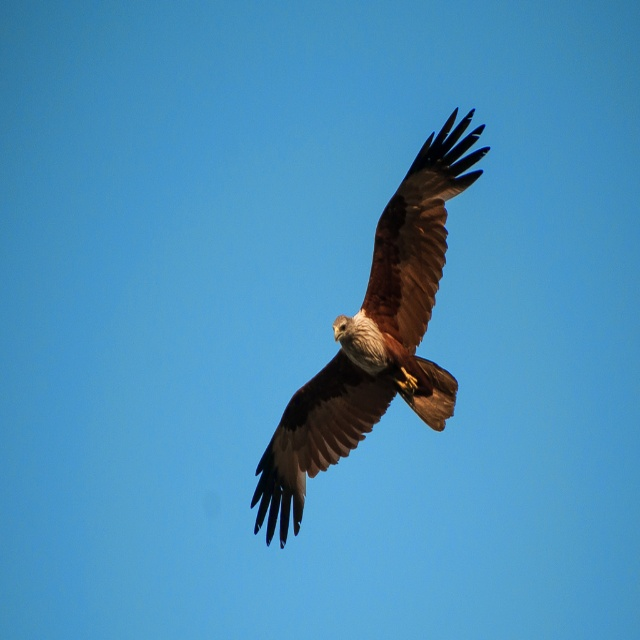Eagle: (251, 107, 490, 550)
